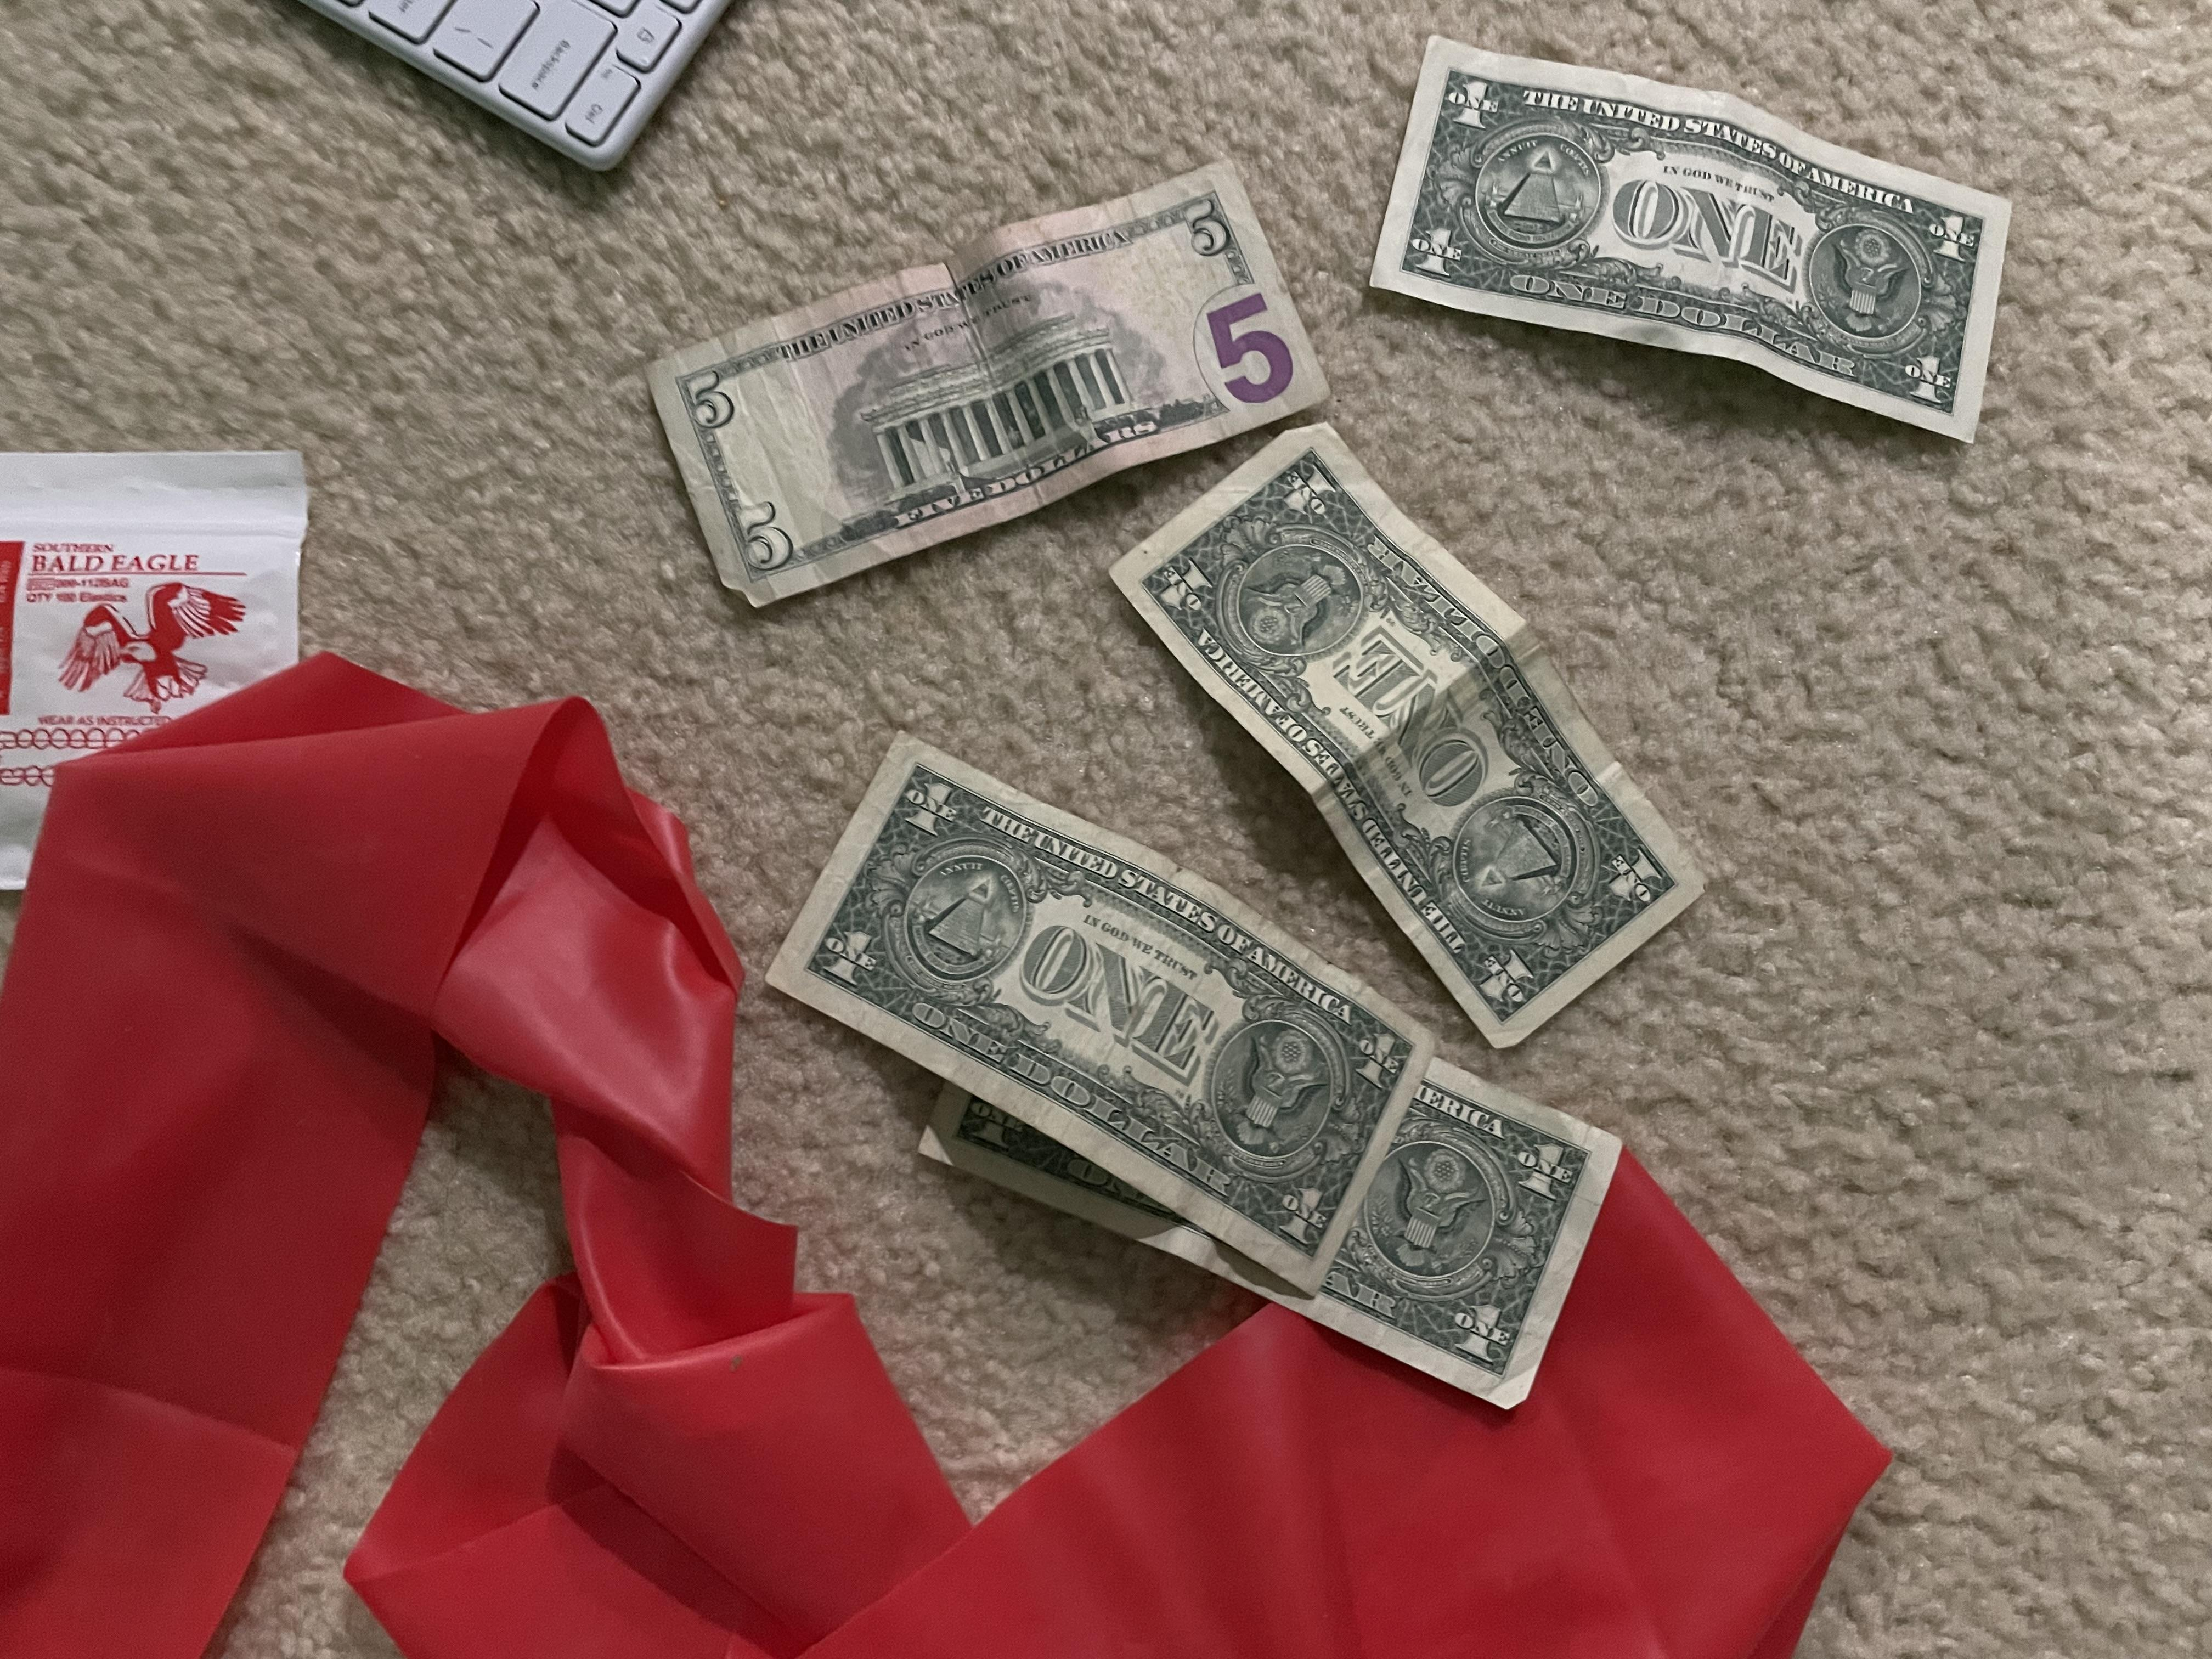FiveBill: (648, 146, 1338, 605)
OneBill: (1104, 422, 1716, 1054), (751, 730, 1432, 1295), (1364, 26, 2017, 462), (911, 1065, 1627, 1413)
